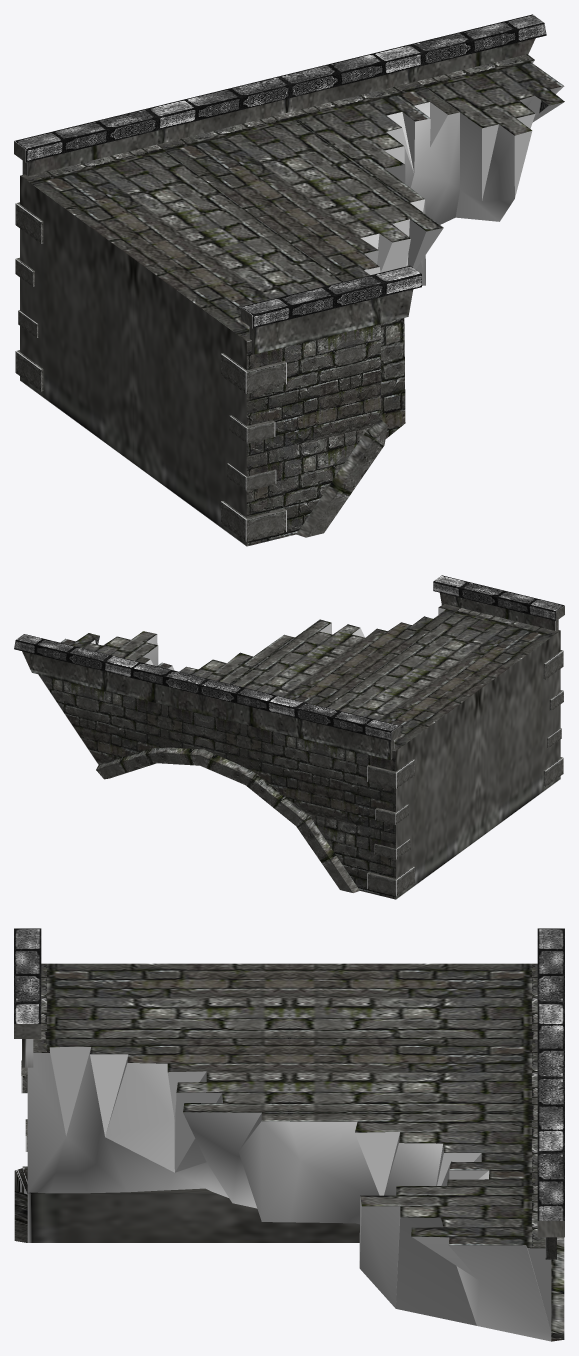
Rendered from stone_lod_rock_broken3.FBX.
The picture shows the model from 3 angles, top to bottom: view 1: azimuth 30°, elevation 25°; view 2: azimuth 150°, elevation 25°; view 3: azimuth 270°, elevation 25°; orthographic projection. The views are drawn at different scales.
Visible parts, largest first — view 1: Object001z001; view 2: Object001z001; view 3: Object001z001.
Boxes of the visible parts, x1,y1,x2,y2 form: Object001z001: (14,14,564,546); Object001z001: (14,575,564,899); Object001z001: (14,928,564,1341).
Size of the model in its own units: 720 by 309 by 568.
